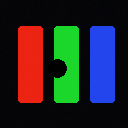2 circle: (48, 59, 66, 77)
